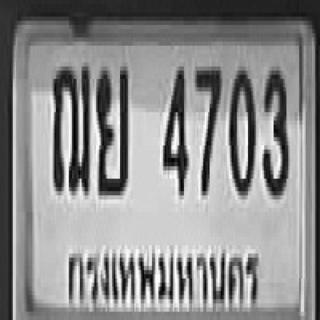A12: (51, 62, 90, 191)
A34: (95, 62, 127, 191)
N00: (229, 66, 254, 191)
N03: (261, 67, 288, 195)
N04: (162, 62, 187, 191)
N07: (194, 62, 219, 191)
P04: (62, 236, 262, 317)
